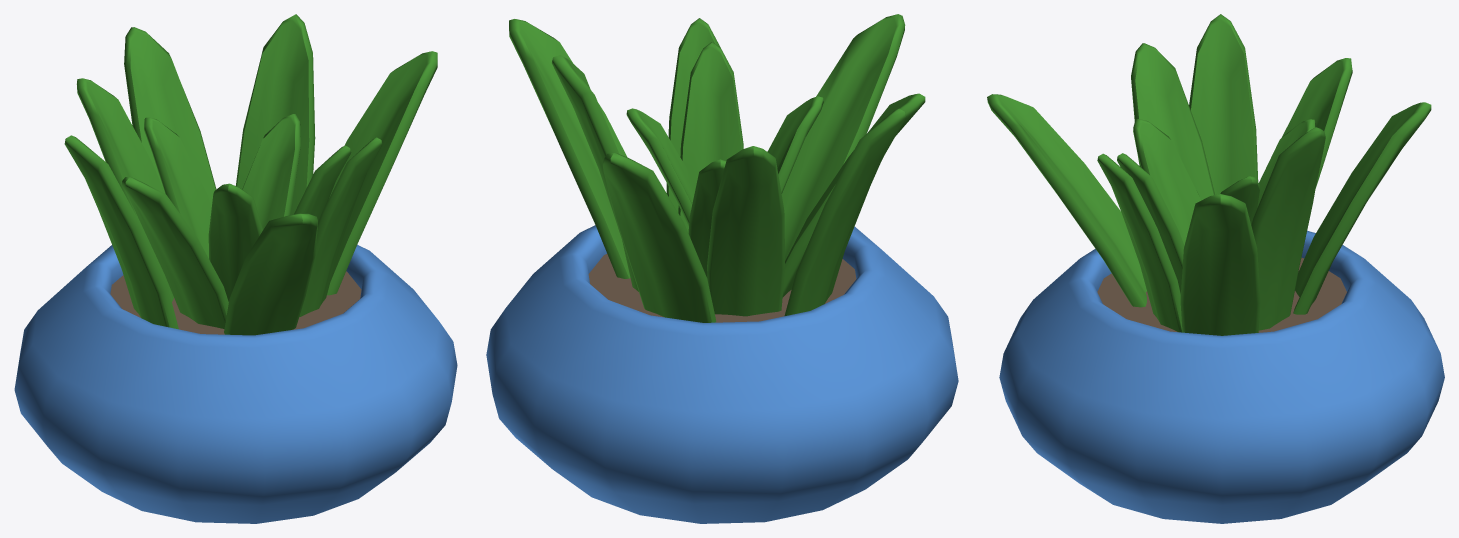
The model's file is Plant_28.glb.
3 views of the same model, side by side, from view 1: azimuth 30°, elevation 25°; view 2: azimuth 150°, elevation 25°; view 3: azimuth 270°, elevation 25° (orthographic). The views are drawn at different scales.
Visible parts, largest first — view 1: Plant_28; view 2: Plant_28; view 3: Plant_28.
Part boxes in pixels (x1=…): Plant_28: x1=14, y1=14, x2=457, y2=523; Plant_28: x1=486, y1=14, x2=958, y2=523; Plant_28: x1=987, y1=14, x2=1444, y2=523.
Bounding box in the file's own units: 0.6143 × 0.5775 × 0.6194.
1 material, 1 textured.
